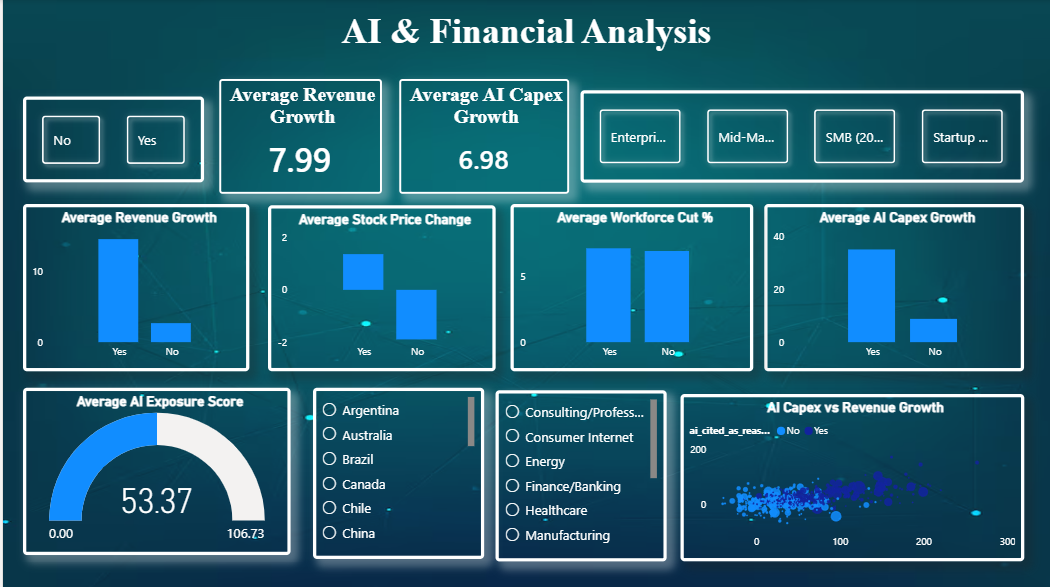

The page's visual inventory and layout, read from the dashboard file:
{"tool":"powerbi","page":{"name":"AI & Financial Analysis","canvas":[1280,720],"ordinal":2},"visuals":[{"type":"textbox","title":"AI & Financial Analysis","box":[8.2,13.7,1261.1,98.8],"z":0},{"type":"cardVisual","title":"Average Revenue Growth","fields":{"Data":["ai_job_layoffs_db ai_job_layoffs_cleaned.Average Revenue Growth"]},"box":[263.7,97.5,198.1,140.2],"z":1000},{"type":"cardVisual","title":"Average AI Capex Growth","fields":{"Data":["ai_job_layoffs_db ai_job_layoffs_cleaned.Average Workforce Cut %"]},"box":[483.2,97.5,207.3,140.2],"z":2000},{"type":"clusteredColumnChart","title":"Average Revenue Growth","fields":{"Category":["ai_job_layoffs_db ai_job_layoffs_cleaned.ai_cited_as_reason"],"Y":["Avg(ai_job_layoffs_db ai_job_layoffs_cleaned.revenue_growth_yoy_pct)"]},"box":[24.4,250,275.9,204.2],"z":3000},{"type":"scatterChart","title":"AI Capex vs Revenue Growth","fields":{"X":["Sum(ai_job_layoffs_db ai_job_layoffs_cleaned.ai_capex_change_yoy_pct)"],"Y":["Sum(ai_job_layoffs_db ai_job_layoffs_cleaned.revenue_growth_yoy_pct)"],"Size":["Sum(ai_job_layoffs_db ai_job_layoffs_cleaned.headcount_cut)"],"Series":["ai_job_layoffs_db ai_job_layoffs_cleaned.ai_cited_as_reason"],"Category":["ai_job_layoffs_db ai_job_layoffs_cleaned.company_name"]},"box":[826.1,481.6,419.1,204.2],"z":4000},{"type":"advancedSlicerVisual","fields":{"Values":["ai_job_layoffs_db ai_job_layoffs_cleaned.ai_cited_as_reason"]},"box":[24.4,118.9,221,105.2],"z":5000},{"type":"listSlicer","fields":{"Values":["ai_job_layoffs_db ai_job_layoffs_cleaned.country"]},"box":[378,474,208.8,208.8],"z":6000},{"type":"listSlicer","fields":{"Values":["ai_job_layoffs_db ai_job_layoffs_cleaned.industry"]},"box":[600.5,477.1,208.8,208.8],"z":7000},{"type":"clusteredColumnChart","title":"Average AI Capex Growth","fields":{"Category":["ai_job_layoffs_db ai_job_layoffs_cleaned.ai_cited_as_reason"],"Y":["Avg(ai_job_layoffs_db ai_job_layoffs_cleaned.ai_capex_change_yoy_pct)"]},"box":[928.2,250,317,204.2],"z":8000},{"type":"gauge","title":"Average AI Exposure Score","fields":{"Y":["ai_job_layoffs_db ai_job_layoffs_cleaned.Average AI Exposure"]},"box":[24.4,474,326.2,204.2],"z":9000},{"type":"clusteredColumnChart","title":"Average Stock Price Change","fields":{"Category":["ai_job_layoffs_db ai_job_layoffs_cleaned.ai_cited_as_reason"],"Y":["Avg(ai_job_layoffs_db ai_job_layoffs_cleaned.stock_price_change_30d_pct)"]},"box":[323.1,251.5,277.4,202.7],"z":10000},{"type":"clusteredColumnChart","title":"Average Workforce Cut %","fields":{"Category":["ai_job_layoffs_db ai_job_layoffs_cleaned.ai_cited_as_reason"],"Y":["Avg(ai_job_layoffs_db ai_job_layoffs_cleaned.pct_workforce_cut)"]},"box":[618.8,250,295.7,204.2],"z":11000},{"type":"advancedSlicerVisual","title":"Select Year","fields":{"Values":["ai_job_layoffs_db ai_job_layoffs_cleaned.company_size"]},"box":[704.2,111.3,541.1,112.8],"z":12000}]}

Visuals, with their boxes in screenshot pixels (x1, y1, x2, y2), scaled from the page's 1280x720 canvas onto the 1050x587 screenshot:
"AI & Financial Analysis" textbox: bbox=(7, 11, 1041, 92)
"Average Revenue Growth" cardVisual: bbox=(216, 79, 379, 194)
"Average AI Capex Growth" cardVisual: bbox=(396, 79, 566, 194)
"Average Revenue Growth" clusteredColumnChart: bbox=(20, 204, 246, 370)
"AI Capex vs Revenue Growth" scatterChart: bbox=(678, 393, 1021, 559)
advancedSlicerVisual - ai_job_layoffs_db ai_job_layoffs_cleaned.ai_cited_as_reason: bbox=(20, 97, 201, 183)
listSlicer - ai_job_layoffs_db ai_job_layoffs_cleaned.country: bbox=(310, 386, 481, 557)
listSlicer - ai_job_layoffs_db ai_job_layoffs_cleaned.industry: bbox=(493, 389, 664, 559)
"Average AI Capex Growth" clusteredColumnChart: bbox=(761, 204, 1021, 370)
"Average AI Exposure Score" gauge: bbox=(20, 386, 288, 553)
"Average Stock Price Change" clusteredColumnChart: bbox=(265, 205, 493, 370)
"Average Workforce Cut %" clusteredColumnChart: bbox=(508, 204, 750, 370)
"Select Year" advancedSlicerVisual: bbox=(578, 91, 1022, 183)
